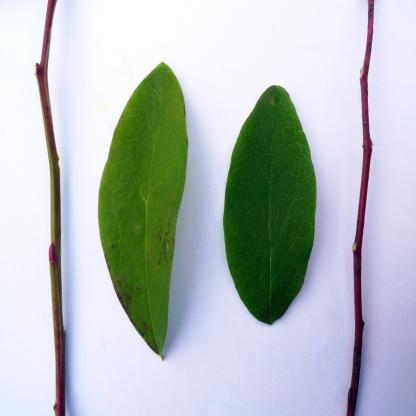blueberry leaf: (95, 59, 196, 369), (218, 78, 322, 344)
